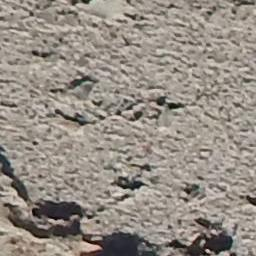Structural-Crack: (1, 102, 256, 256)
